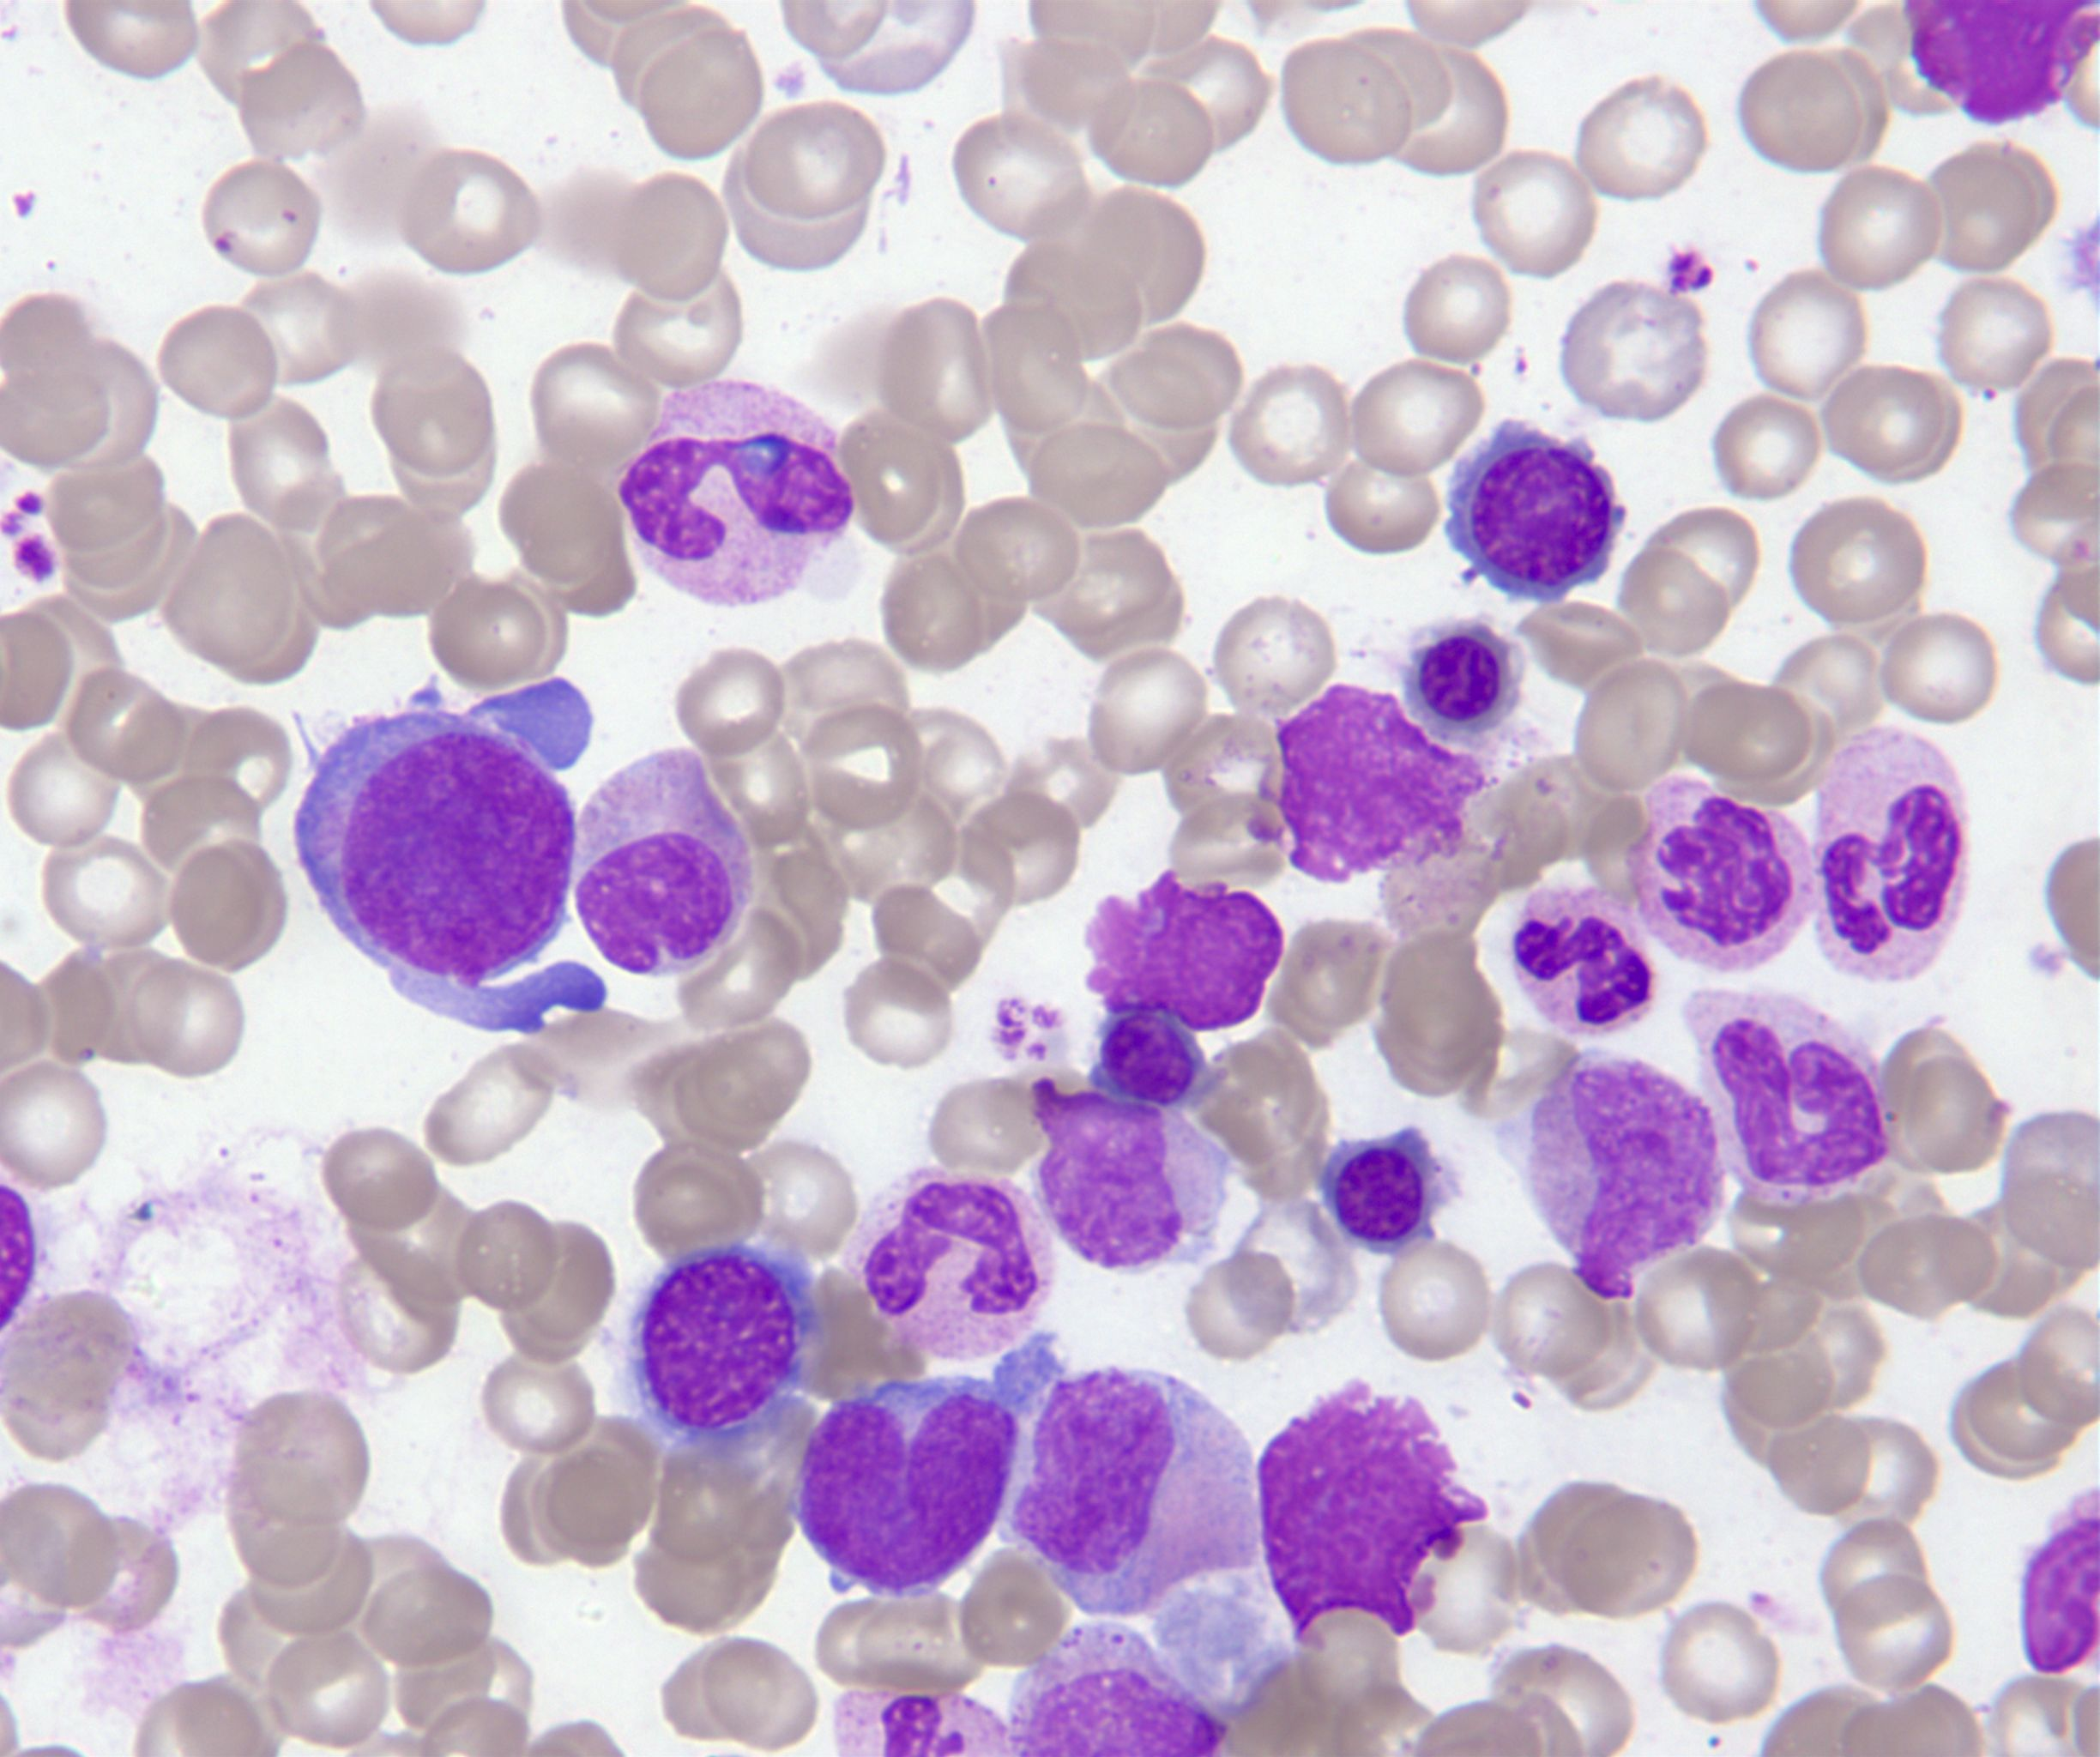21: (288, 703, 577, 998)
23: (624, 1239, 820, 1443), (1441, 417, 1631, 609)
24: (1312, 1118, 1449, 1260), (1399, 612, 1531, 749), (1080, 1003, 1216, 1115)
3: (1001, 1361, 1268, 1624), (1512, 1052, 1735, 1307), (1022, 1073, 1237, 1288)
42: (787, 1373, 1019, 1605)
5: (1676, 977, 1906, 1216), (837, 1155, 1060, 1368)
6: (610, 372, 858, 616), (1810, 719, 1980, 991), (1620, 766, 1810, 981), (1497, 876, 1669, 1045)
E1: (567, 745, 762, 986)
x: (1249, 1373, 1497, 1649), (1266, 672, 1498, 890), (1080, 867, 1287, 1036)
